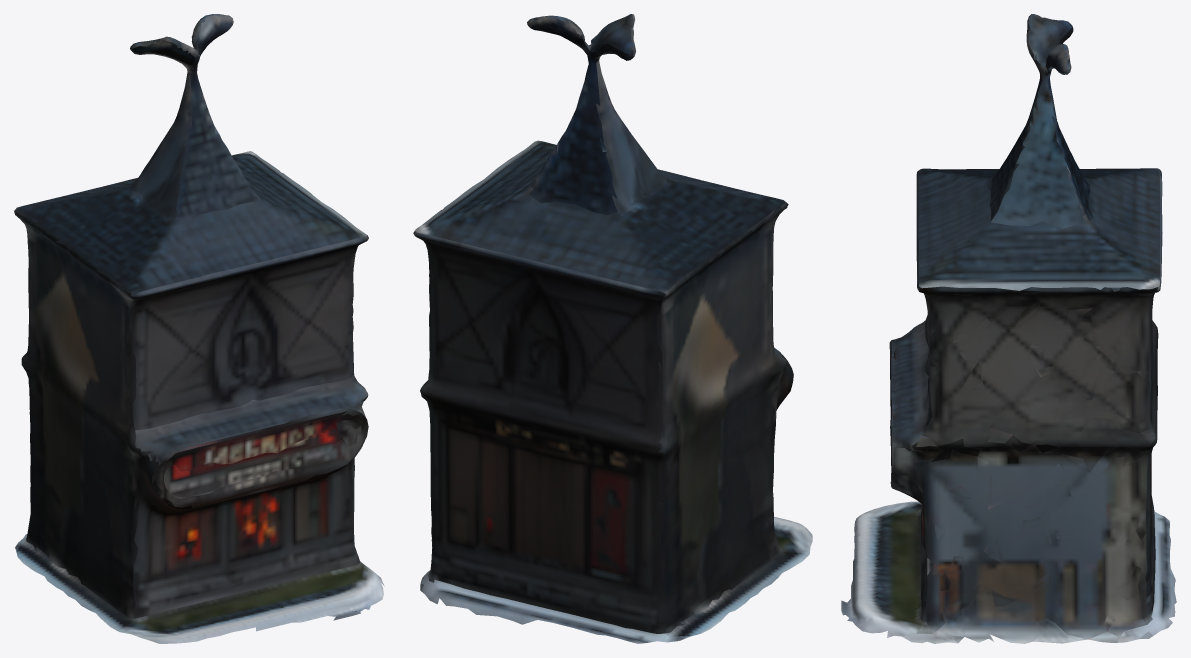
3 views of the same model, side by side, from view 1: azimuth 30°, elevation 25°; view 2: azimuth 150°, elevation 25°; view 3: azimuth 270°, elevation 25° (orthographic). The views are drawn at different scales.
Parts seen in each view (by area): view 1: input.003; view 2: input.003; view 3: input.003.
Boxes of the visible parts, <box> form: input.003: <box>14,14,384,643</box>; input.003: <box>413,14,812,643</box>; input.003: <box>841,14,1176,643</box>.
Size of the model in its own units: 9.22 by 17.94 by 9.88.
